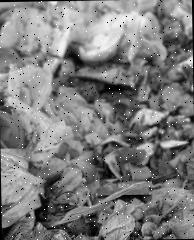general: (0, 108, 30, 149), (104, 198, 133, 238)
plastic: (10, 62, 54, 104)
